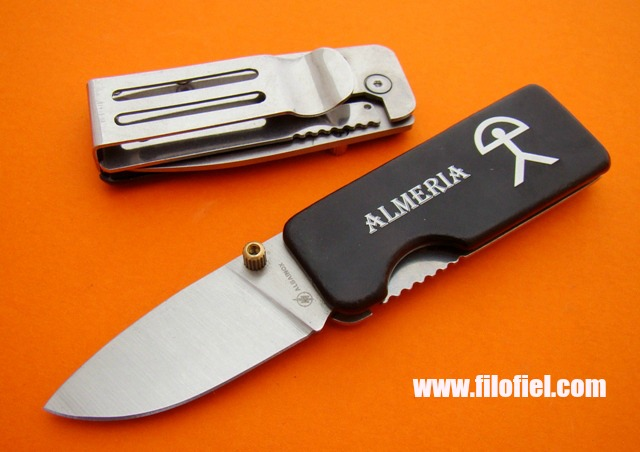knife: (30, 230, 337, 431)
